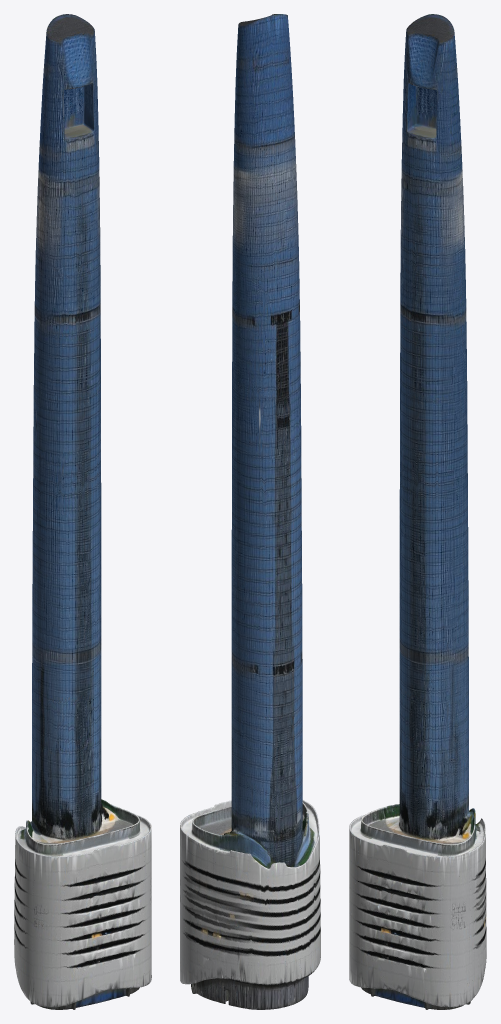
File: ciel-tower.glb
3 renders of one model, left to right at view 1: azimuth 30°, elevation 25°; view 2: azimuth 210°, elevation 25°; view 3: azimuth 330°, elevation 25°, orthographic. The views are drawn at different scales.
Visible parts, largest first — view 1: Mesh_0; view 2: Mesh_0; view 3: Mesh_0.
Boxes of the visible parts, x1,y1,x2,y2 form: Mesh_0: [14, 14, 151, 1009]; Mesh_0: [180, 14, 320, 1009]; Mesh_0: [349, 14, 486, 1009].
Size of the model in its own units: 50 by 377 by 45.
Materials: 1 (1 with a texture image).
